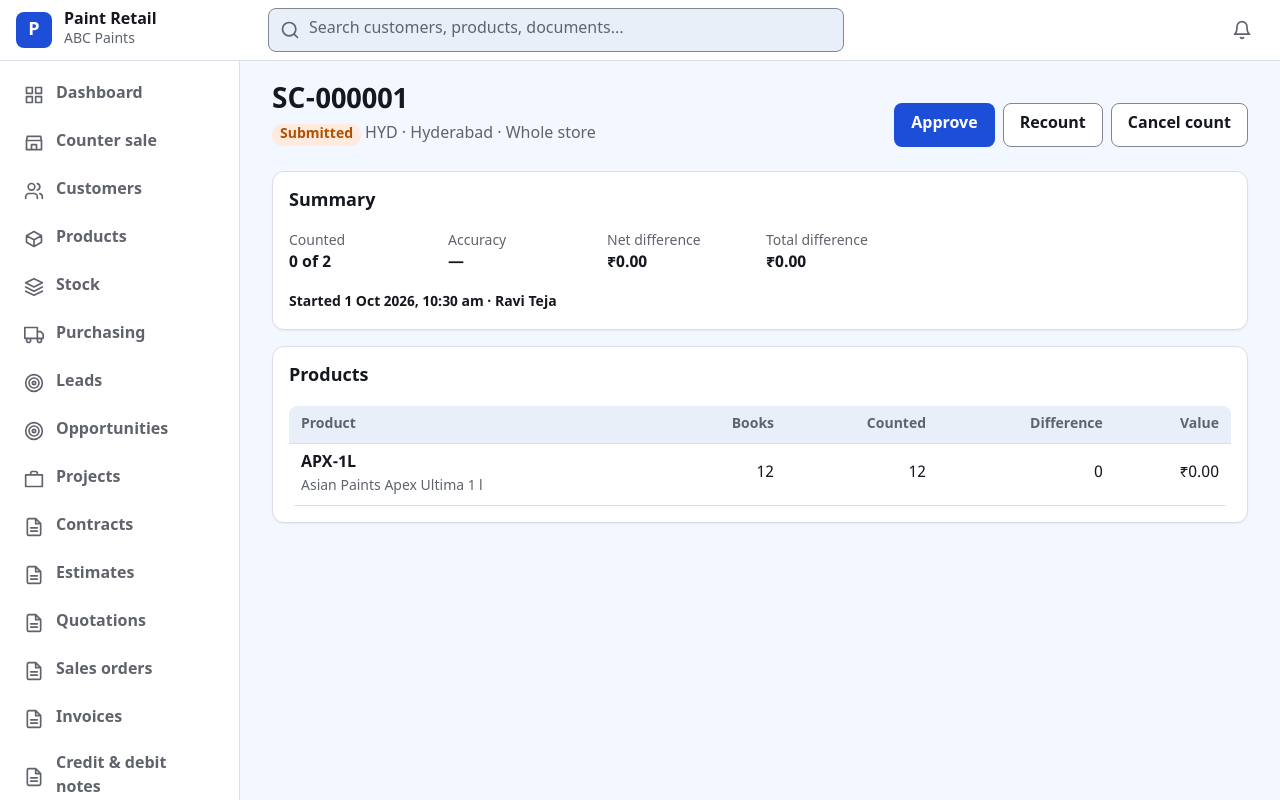
it: StockCountDetailPage › approves a count with no differences
What coordinates should you click on to do the following:
click the button with aria-label "Approve SC-000001"
I would click on:
 (944, 125)
Its box is [894,103,995,147].
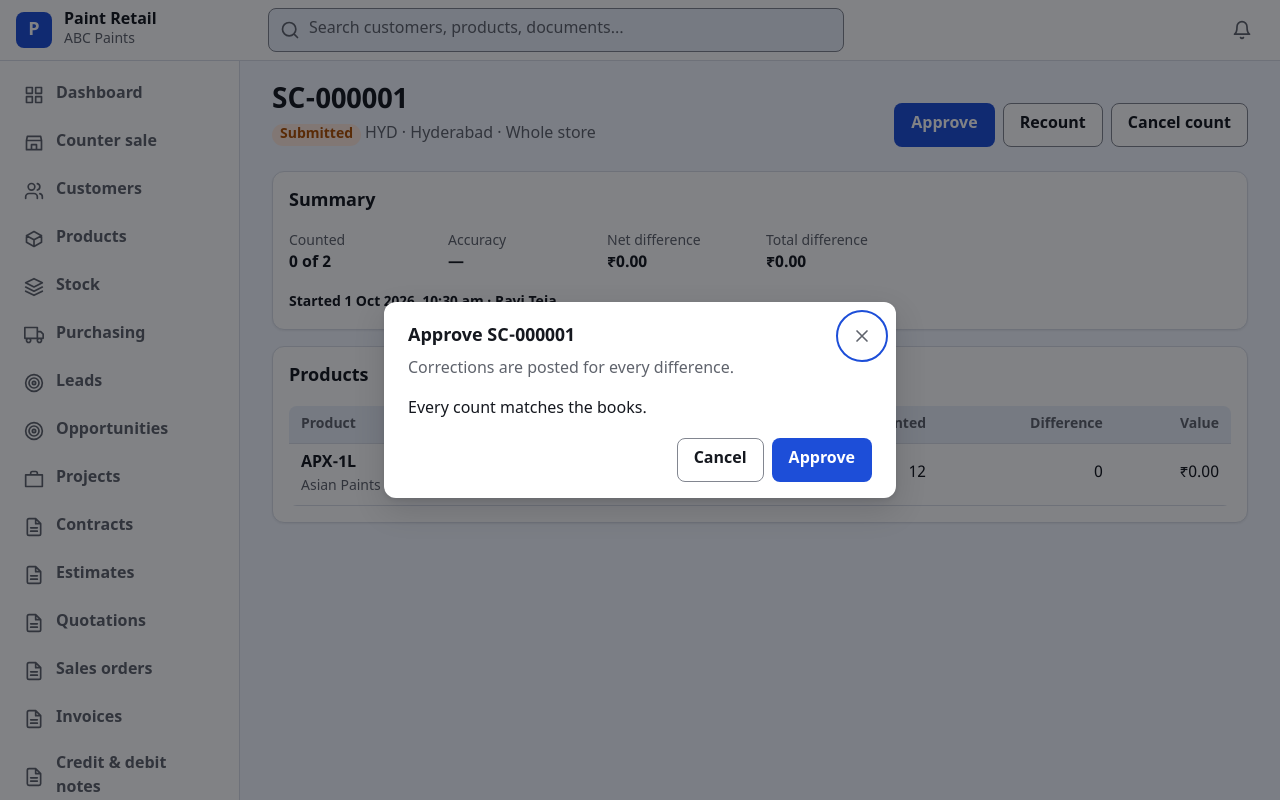
Result: the text "Every count matches the books." is shown at [408,399,647,420]
What coordinates should you click on to do the following:
click the button "Approve"
I would click on:
 (822, 460)
Its box is [772,438,872,482].
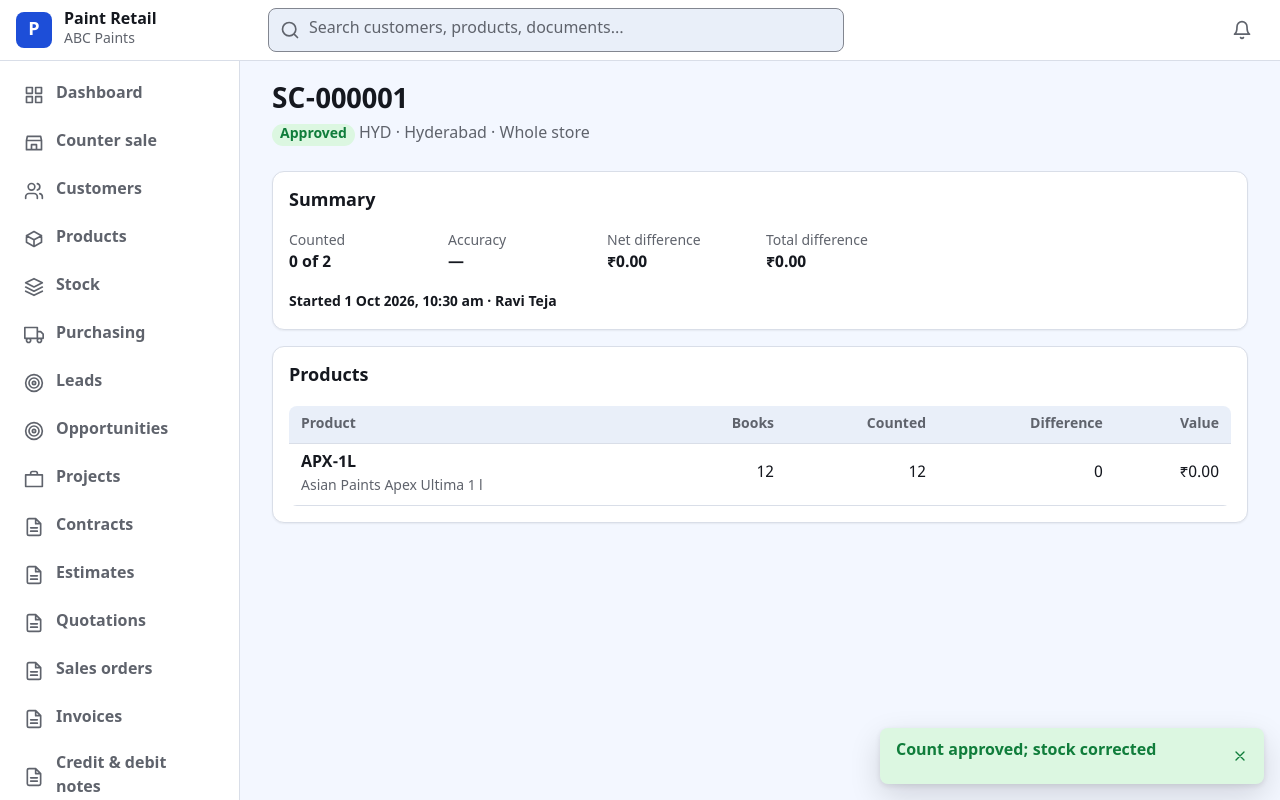
Result: the text "Count approved; stock corrected" is shown at [896,741,1156,762]
